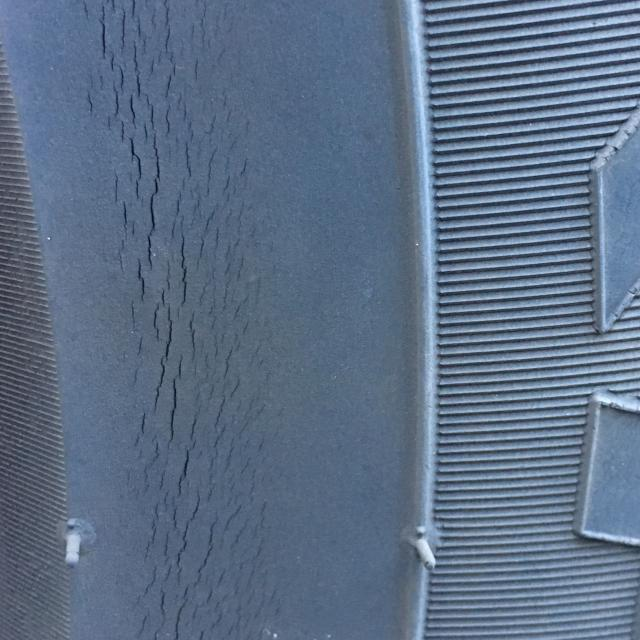Cracks: (61, 0, 288, 640)
Non-defective: (316, 0, 640, 640)
